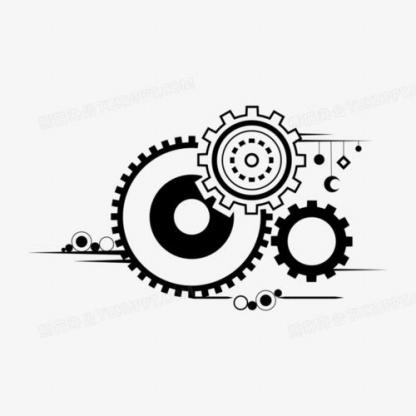FOD: (107, 132, 273, 304), (195, 102, 310, 218), (270, 197, 356, 286)
